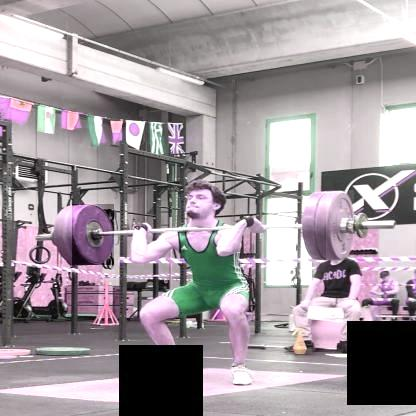barbell: (73, 205, 115, 265), (327, 192, 354, 262)
